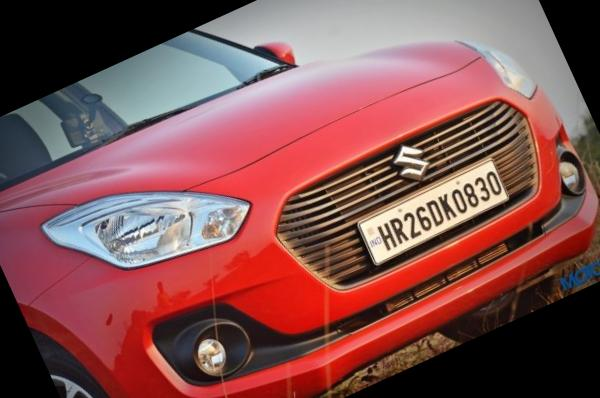plate: (349, 139, 538, 286)
